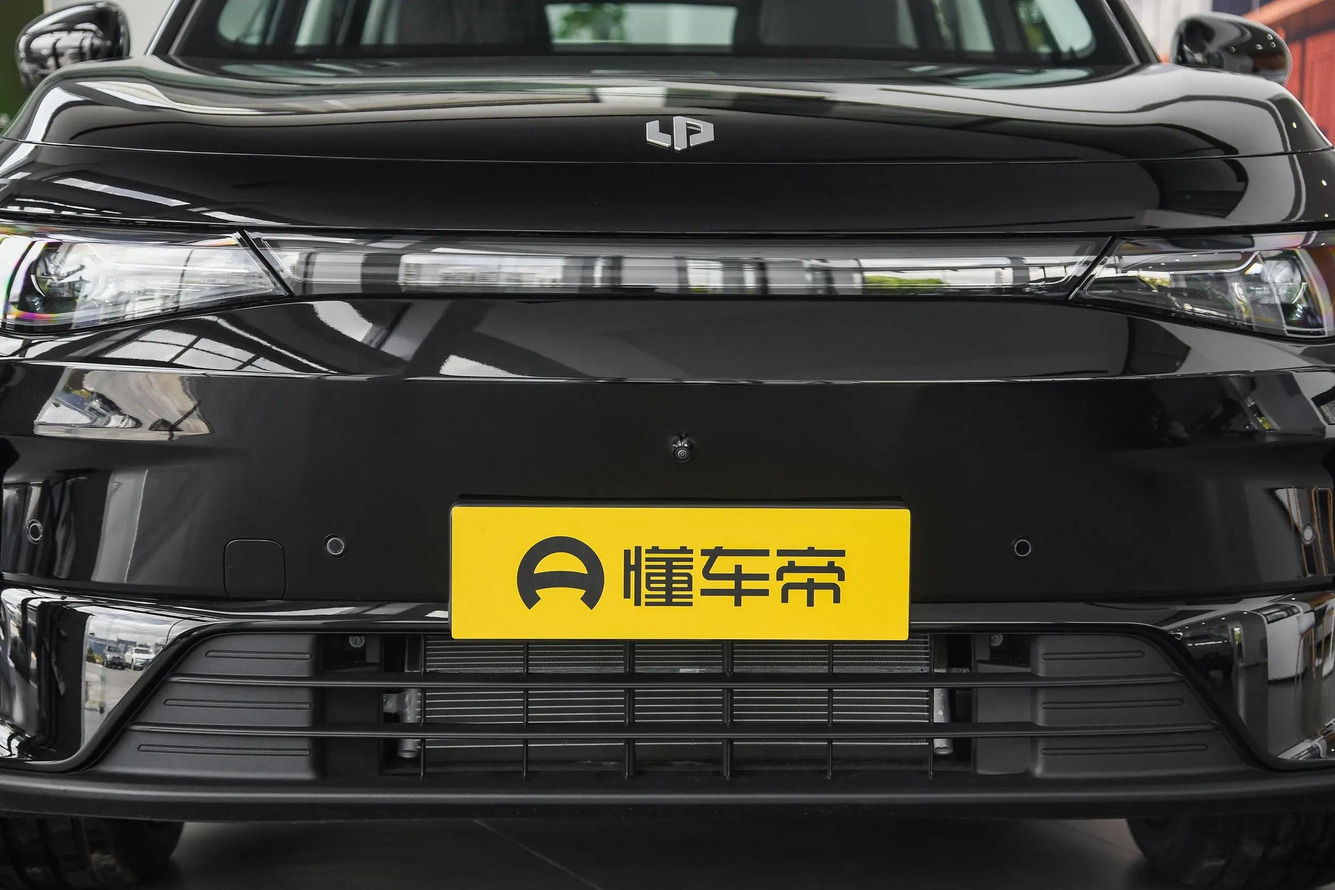LEAPMOTOR: (645, 115, 715, 152)
